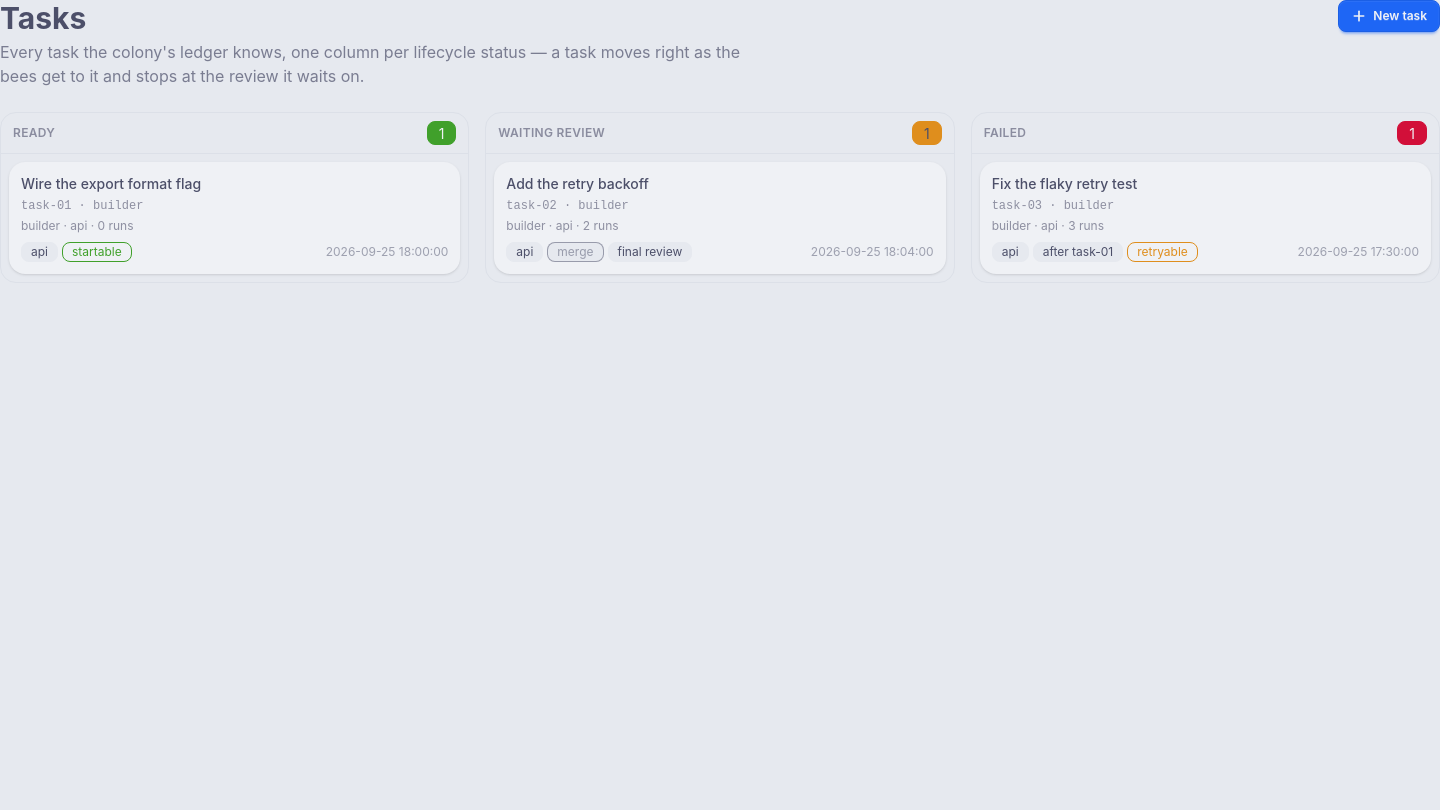
Test case: new task drawer › offers the colony's bees, with a placeholder for the required one
expect the element named "ready tasks" is shown: met, box x1=0 y1=112 x2=469 y2=283
Click the button "New task" at (1389, 16), box x1=1338 y1=0 x2=1439 y2=32
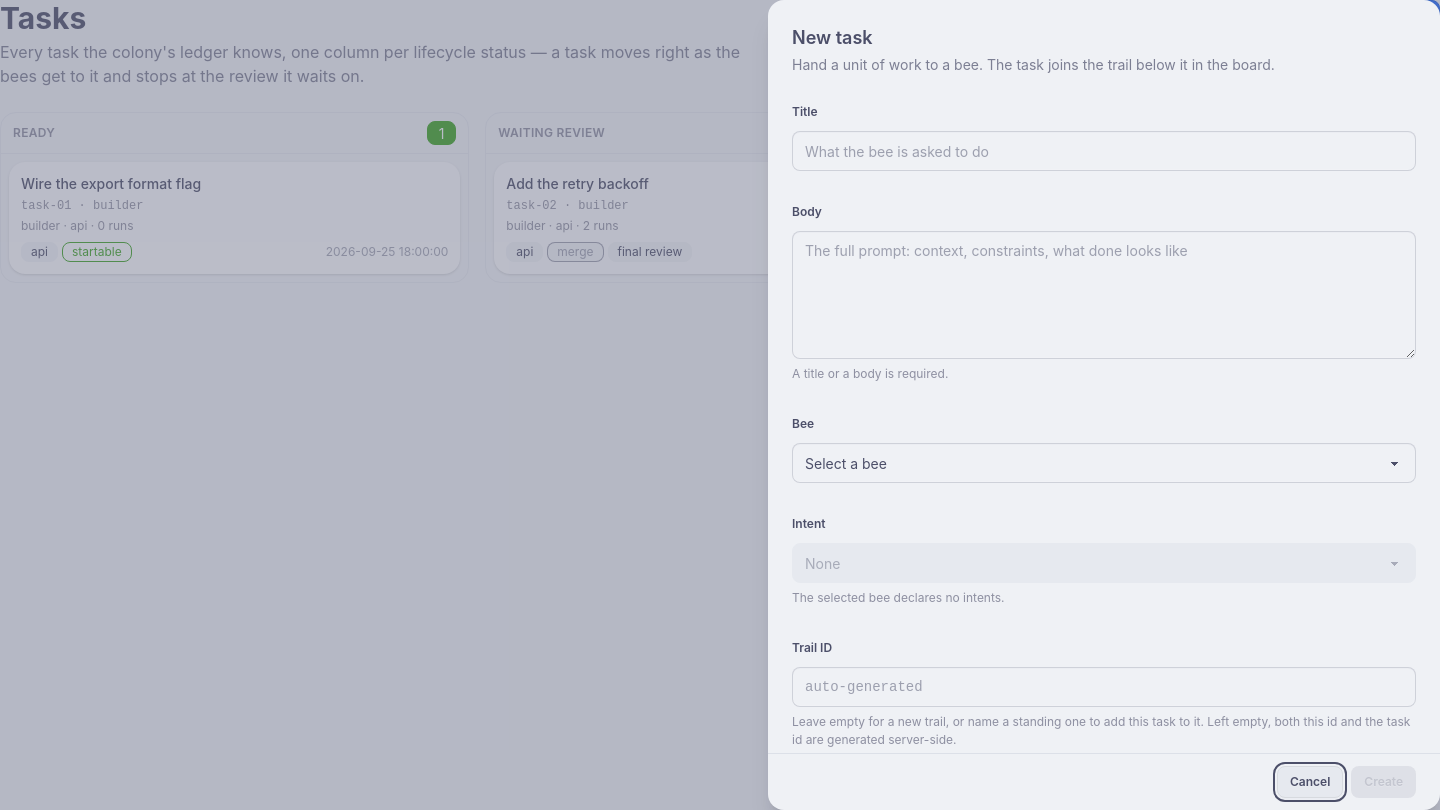
expect the dialog labelled "New task" is shown: met, box x1=768 y1=0 x2=1439 y2=809
expect the dropdown labelled "Bee" shows "Select a bee": met, box x1=792 y1=443 x2=1416 y2=483
